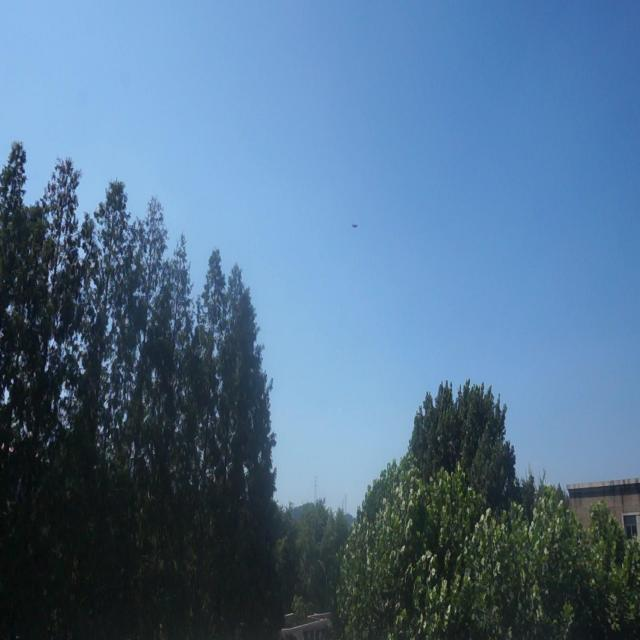UAV: (352, 223, 358, 227)
